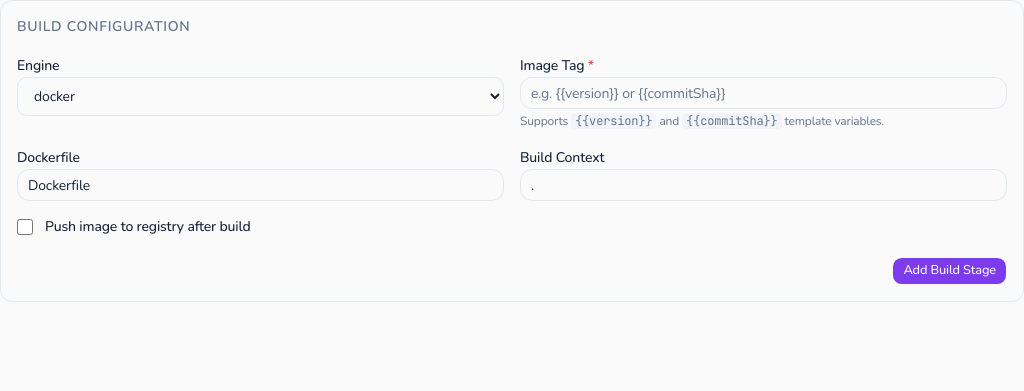
Scenario: BuildStageCard › shows registry field when push toggle is enabled
The image size is (1024, 391).
Click the checkbox labelled "Push image to registry after build" at (25, 227), box [17, 219, 33, 235]
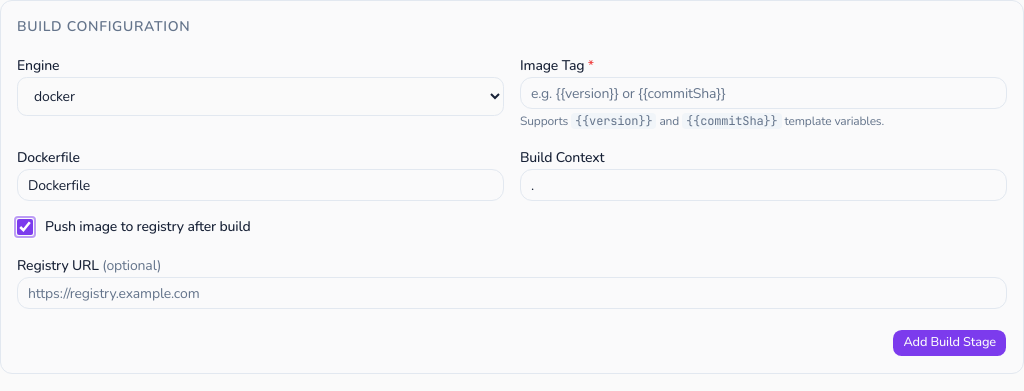
Expected: the field labelled "Registry URL (optional)" is shown, [17, 277, 1007, 309]
